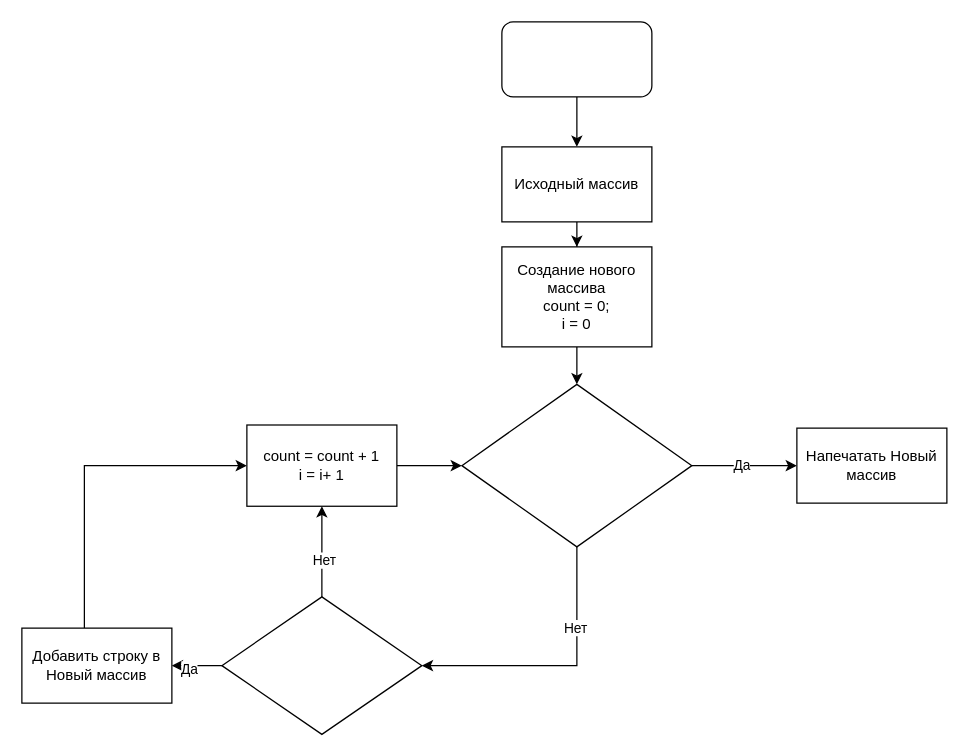
The diagram is 969 pixels wide and 756 high, and some of its shapes have lost their labels. The shapes that lost their labels are listed below. From the top down, each one's box as (x1, y1, x2, y2) in pixels, then its label:
(501, 21, 652, 97): Начало
(461, 383, 692, 547): Проверка длины массива i < Длины массива
(221, 596, 422, 734): Проверка длины строки <= 3
